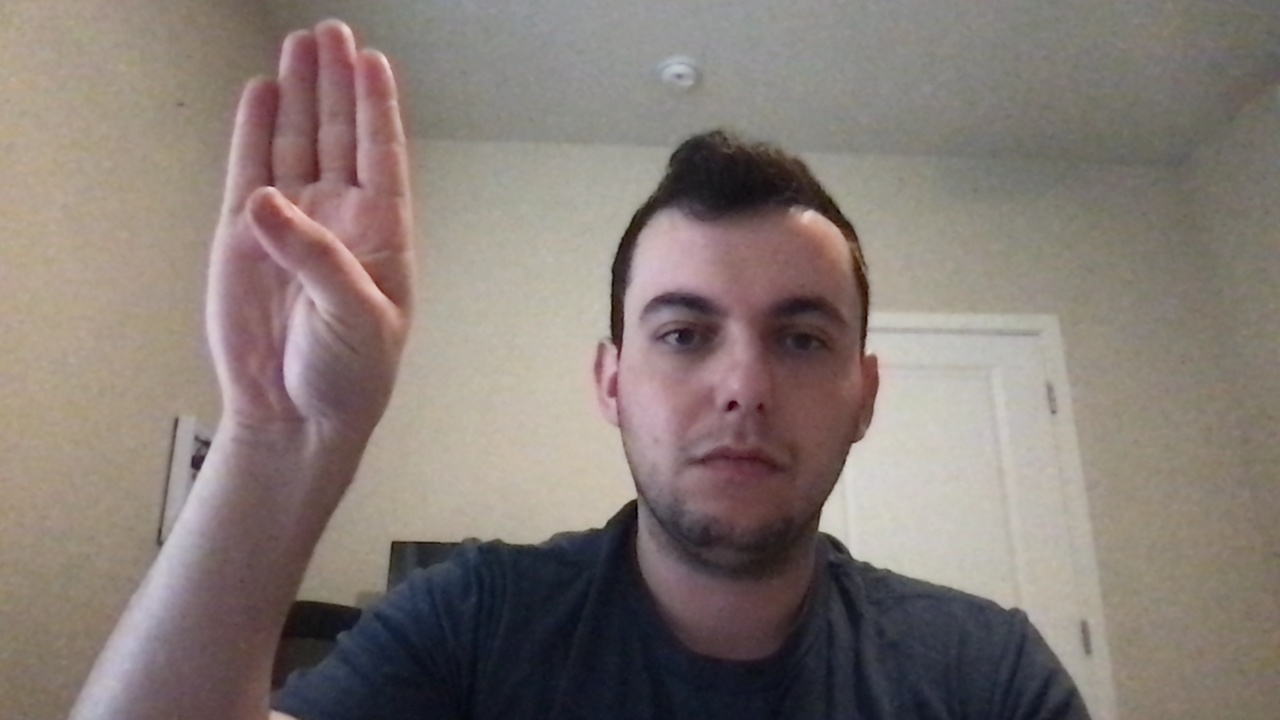b: (199, 17, 420, 438)
